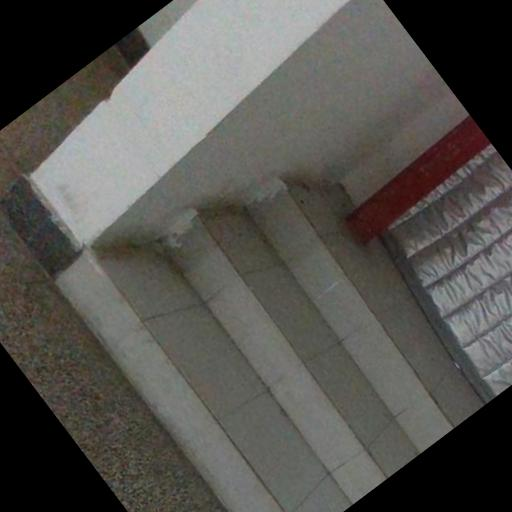stairs: (58, 187, 482, 511)
